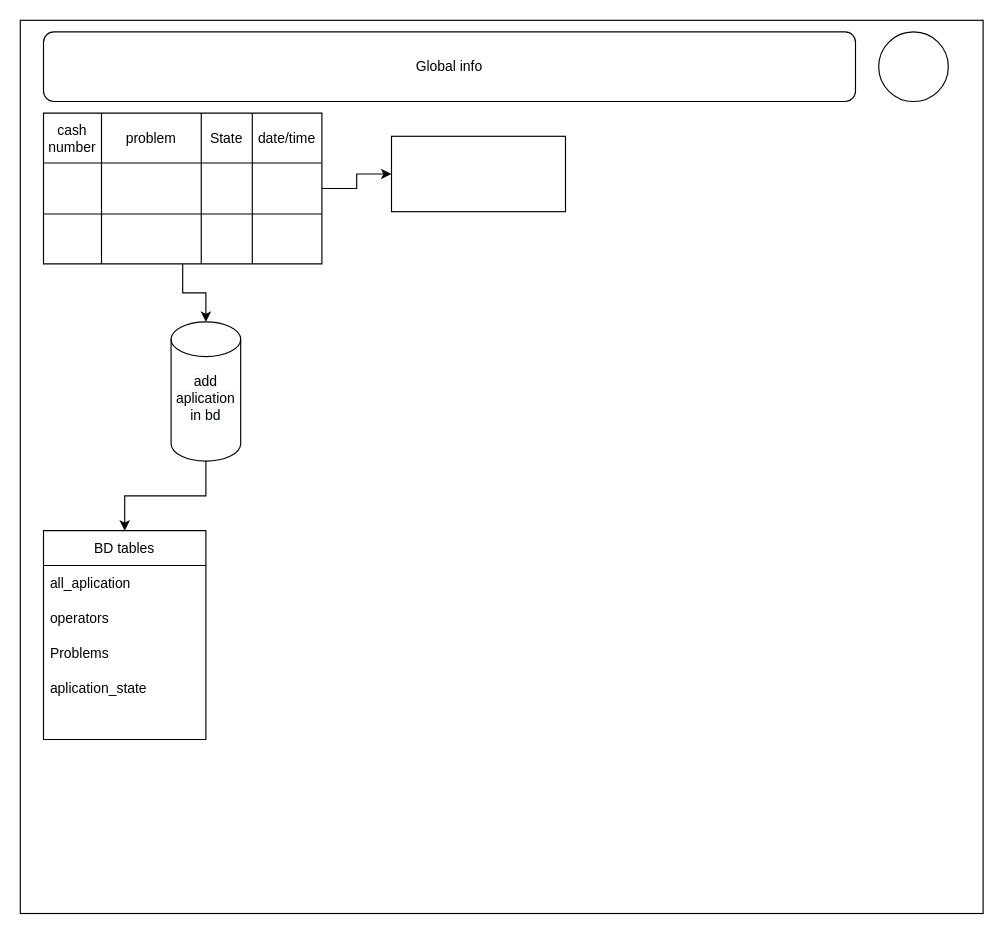
Some shapes in this 1003 by 934 pixel diagram are drawn without their labels. Here are the shapes that lost their labels. From the top down, the centre of each, then its label:
At point 913,66: "operator".
At point 478,173: "add colums with more information".
